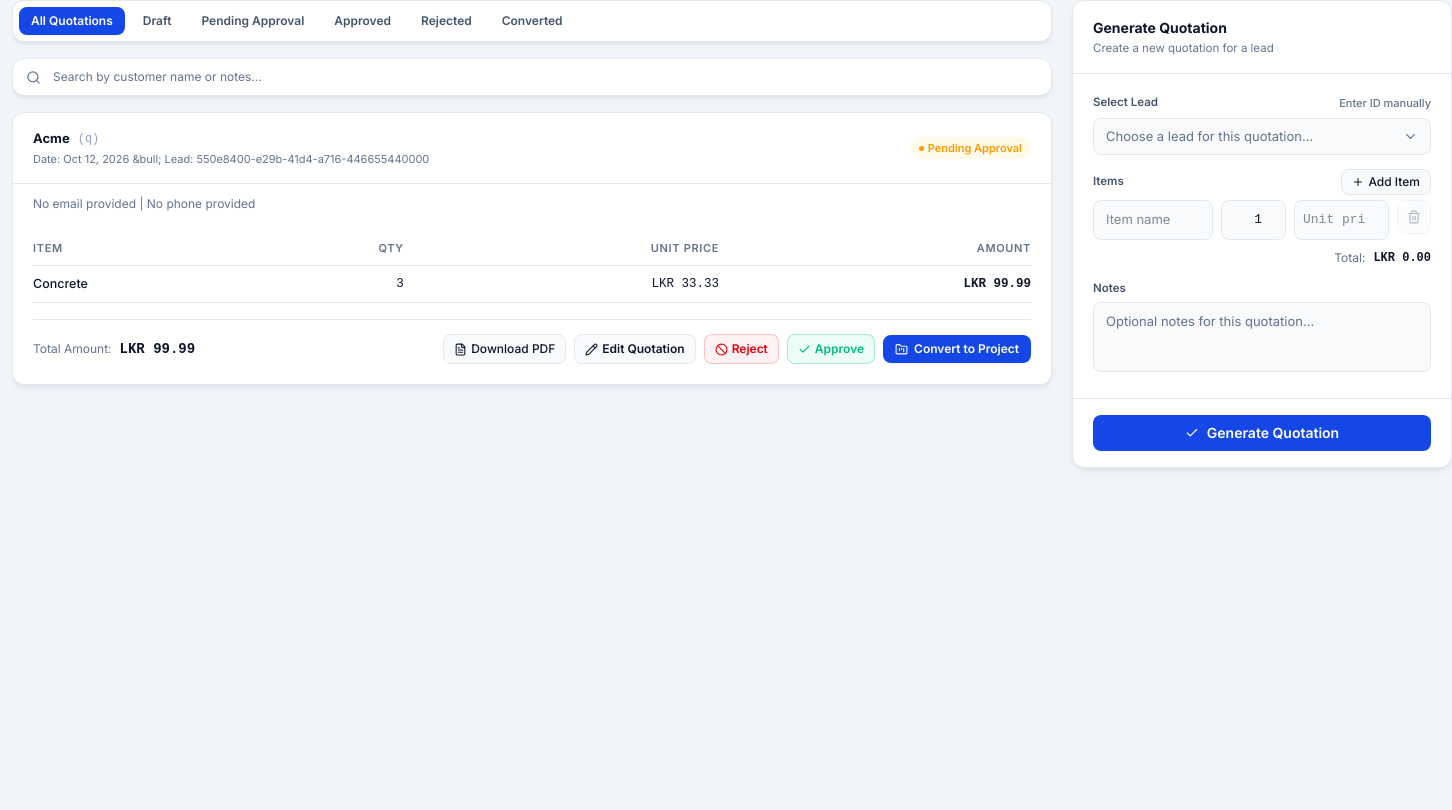
Quotation dashboard interactions › closes the reserved PDF tab on failure
Expected: the text "Acme" is shown, [33, 130, 70, 146]
Click the button with aria-label "Download or view PDF". click: (505, 349)
box: [443, 334, 566, 364]
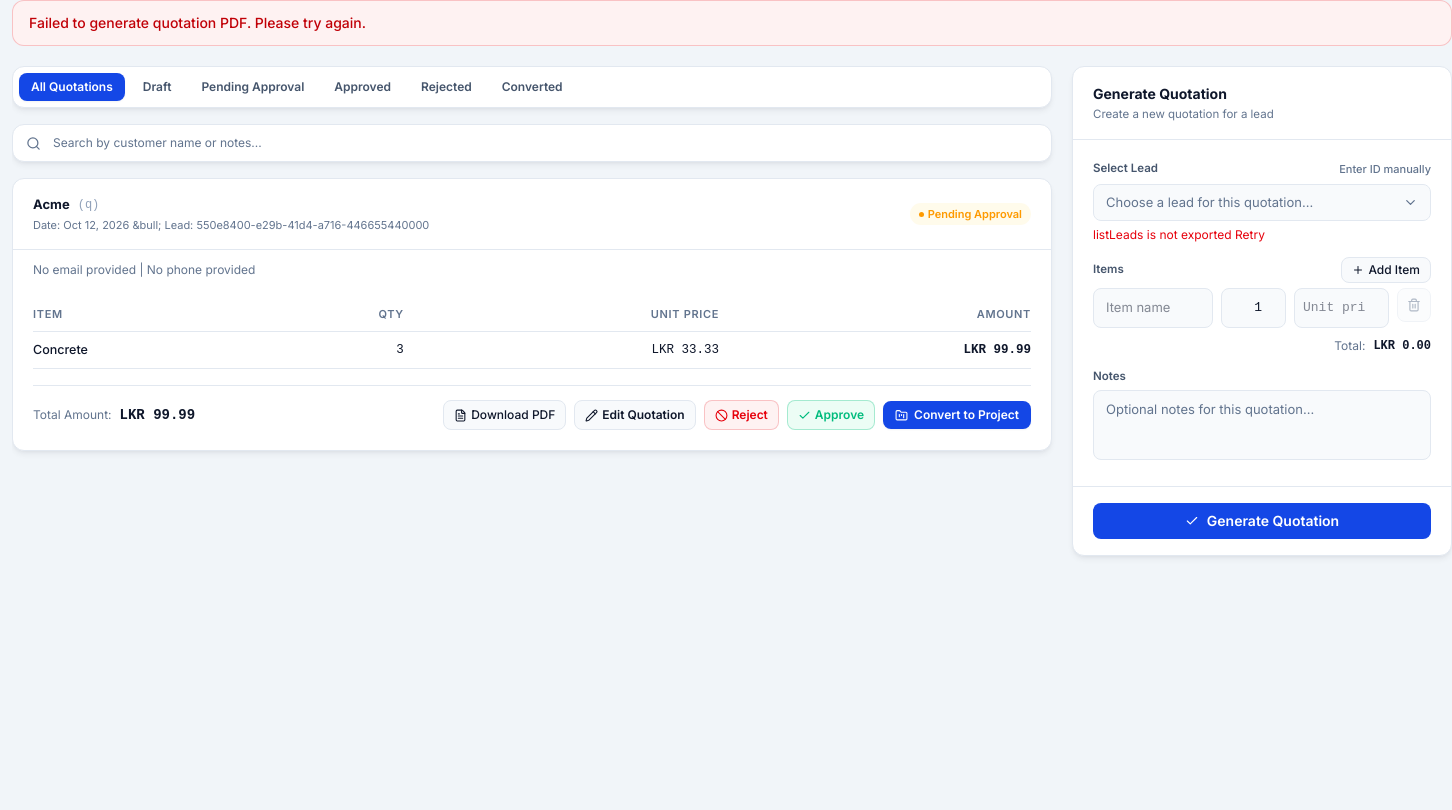
Now the text "Failed to generate quotation PDF. Please try again." is shown, box [12, 0, 1451, 46]
